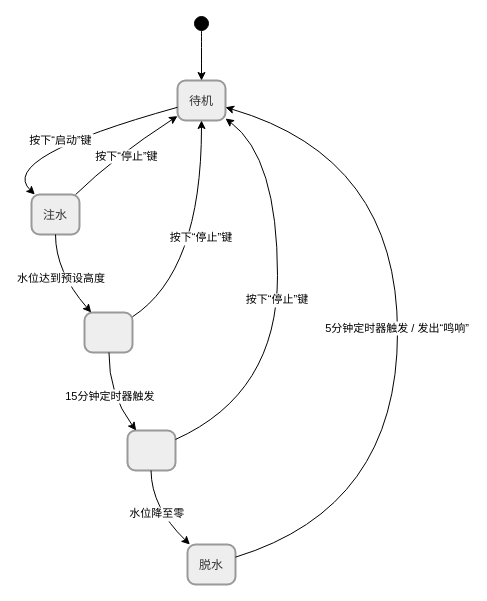
The diagram is 487 pixels wide and 601 high, and some of its shapes have lost their labels. The box of each missing label's shape, as (x1, y1, x2, y2) in pixels:
排水: (126, 429, 176, 471)
洗涤: (83, 311, 133, 353)
